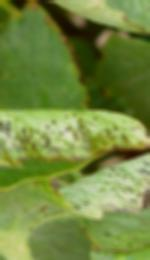Tomato leaf bacterial spot: (55, 100, 150, 250), (0, 104, 150, 192)
